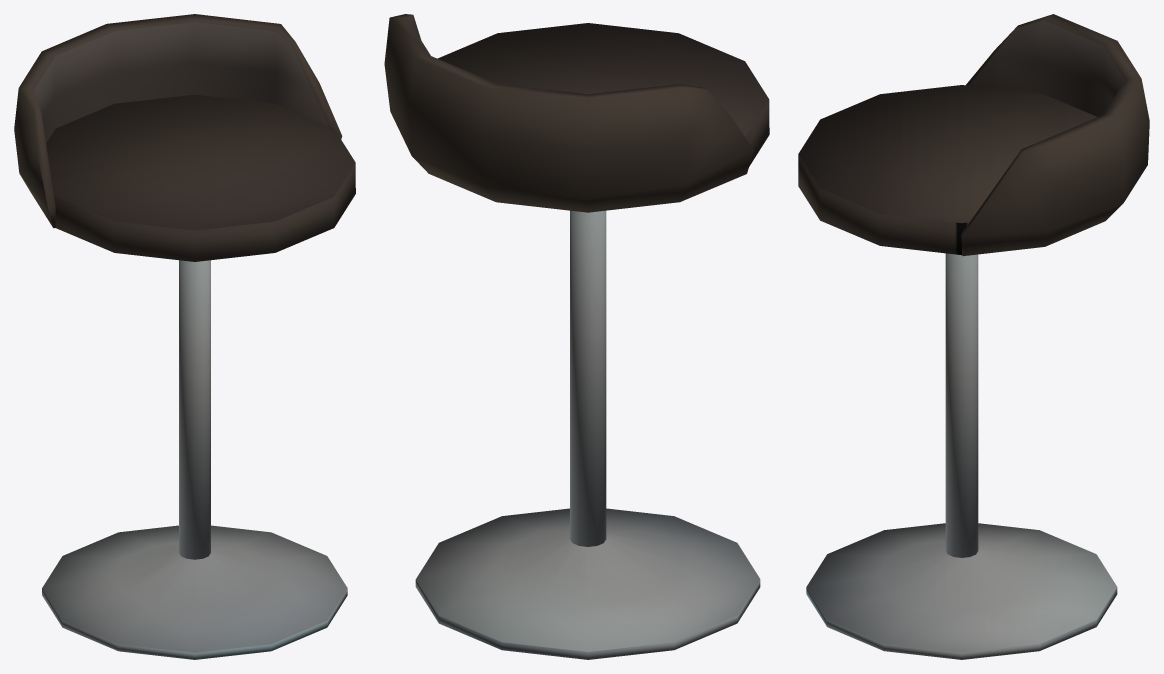
Rendered from chair21b.fbx.
3 views of the same model, side by side, from view 1: azimuth 30°, elevation 25°; view 2: azimuth 150°, elevation 25°; view 3: azimuth 270°, elevation 25° (orthographic). The views are drawn at different scales.
Parts seen in each view (by area): view 1: chair21b; view 2: chair21b; view 3: chair21b.
Boxes of the visible parts, x1=… form: chair21b: x1=14, y1=14, x2=355, y2=659; chair21b: x1=384, y1=14, x2=769, y2=659; chair21b: x1=798, y1=14, x2=1149, y2=659.
Size of the model in its own units: 0.4721 by 0.7766 by 0.4801.
